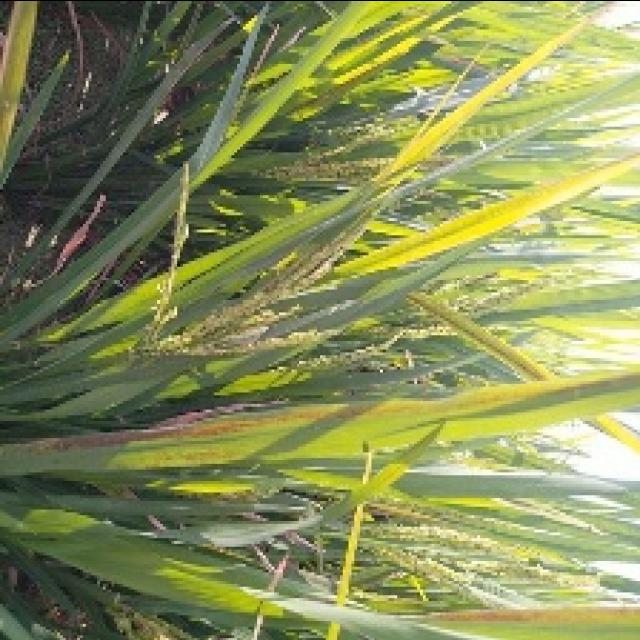Unhealthy: (0, 386, 560, 458)
